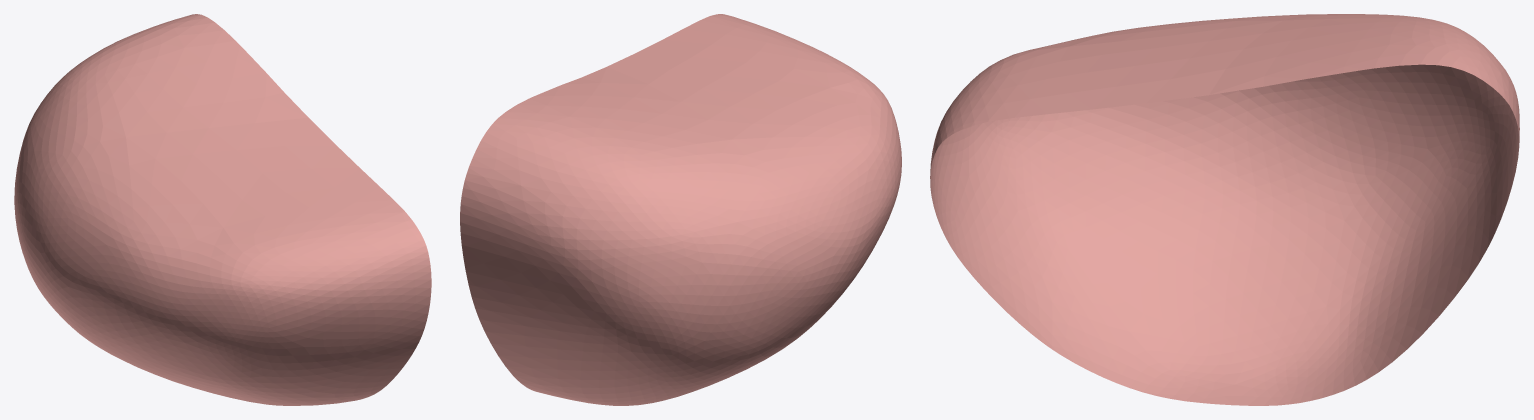
Rendered from prostata_interno.glb.
3 renders of one model, left to right at view 1: azimuth 30°, elevation 25°; view 2: azimuth 150°, elevation 25°; view 3: azimuth 270°, elevation 25°, orthographic. The views are drawn at different scales.
Visible parts, largest first — view 1: prostate; view 2: prostate; view 3: prostate.
Boxes of the visible parts, bbox=[...] form: prostate: bbox=[14, 14, 431, 405]; prostate: bbox=[460, 14, 901, 405]; prostate: bbox=[930, 14, 1519, 405].
Size of the model in its own units: 17 by 20.21 by 31.65.
